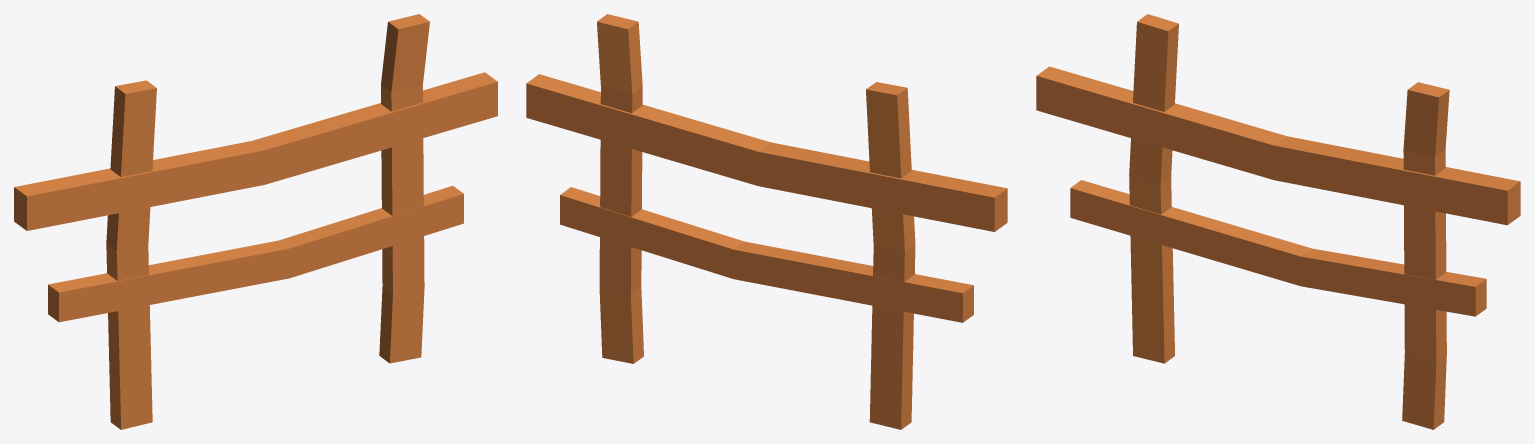
Rendered from Fence.glb.
3 views of the same model, side by side, from view 1: azimuth 30°, elevation 25°; view 2: azimuth 150°, elevation 25°; view 3: azimuth 330°, elevation 25° (orthographic).
Parts seen in each view (by area): view 1: Cube, Cube.003, Cube.002, Cube.001; view 2: Cube, Cube.003, Cube.002, Cube.001; view 3: Cube, Cube.003, Cube.001, Cube.002.
Boxes of the visible parts, x1=… form: Cube: x1=14, y1=72, x2=497, y2=230; Cube.003: x1=48, y1=186, x2=463, y2=322; Cube.002: x1=379, y1=14, x2=429, y2=363; Cube.001: x1=106, y1=80, x2=156, y2=429; Cube: x1=526, y1=74, x2=1007, y2=231; Cube.003: x1=560, y1=187, x2=973, y2=322; Cube.002: x1=597, y1=14, x2=643, y2=363; Cube.001: x1=866, y1=82, x2=915, y2=429; Cube: x1=1036, y1=66, x2=1520, y2=225; Cube.003: x1=1070, y1=180, x2=1486, y2=316; Cube.001: x1=1129, y1=14, x2=1178, y2=363; Cube.002: x1=1402, y1=82, x2=1449, y2=429.
Size of the model in its own units: 5.21 by 3.56 by 0.2532.
